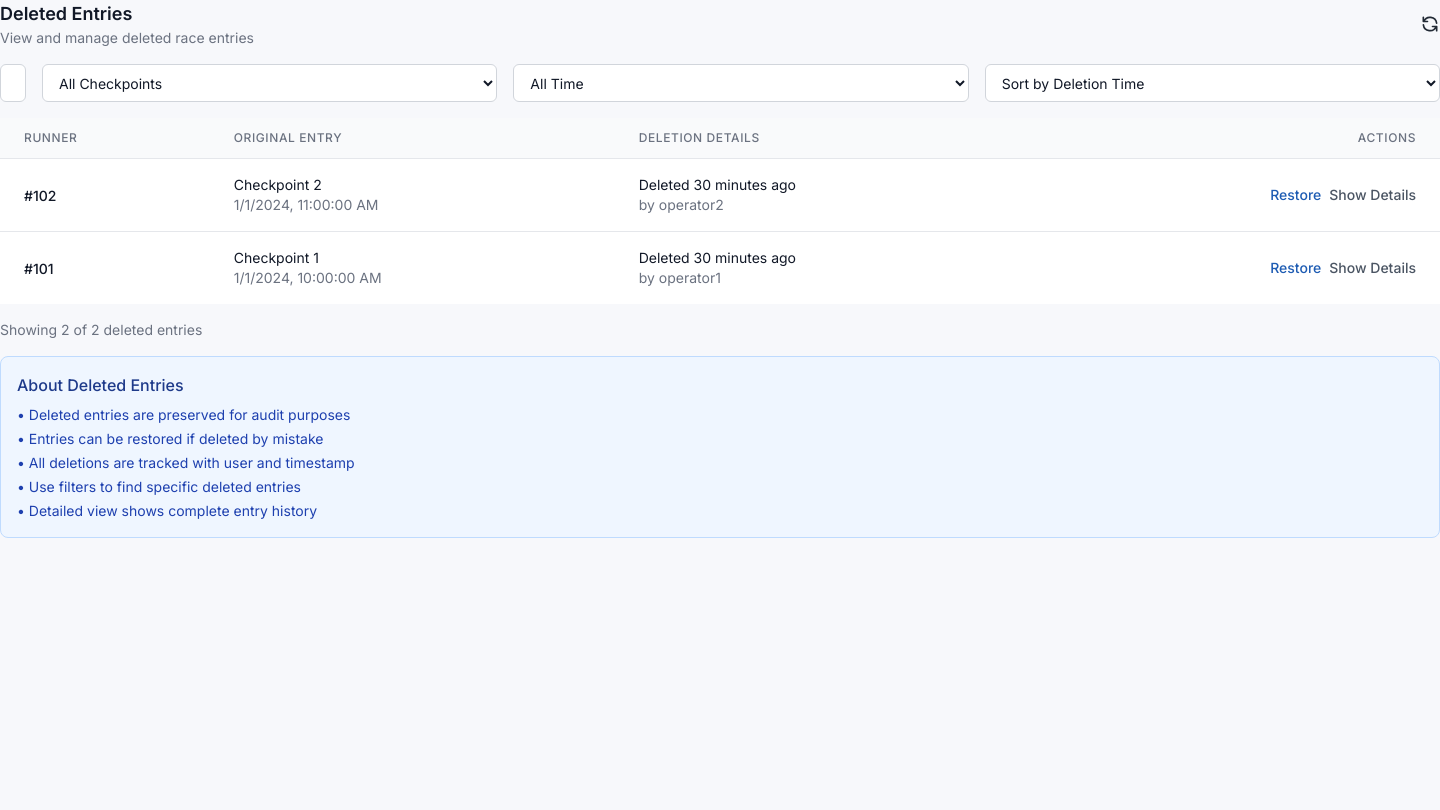
Test: DeletedEntriesView › shows deletion reasons inside expanded details rows
The width and height of the screenshot is (1440, 810).
Note: Expand entry 1 using the Show Details button in its row
Click the button "Show Details" in the row of "101": (1373, 268) [1329, 258, 1416, 278]
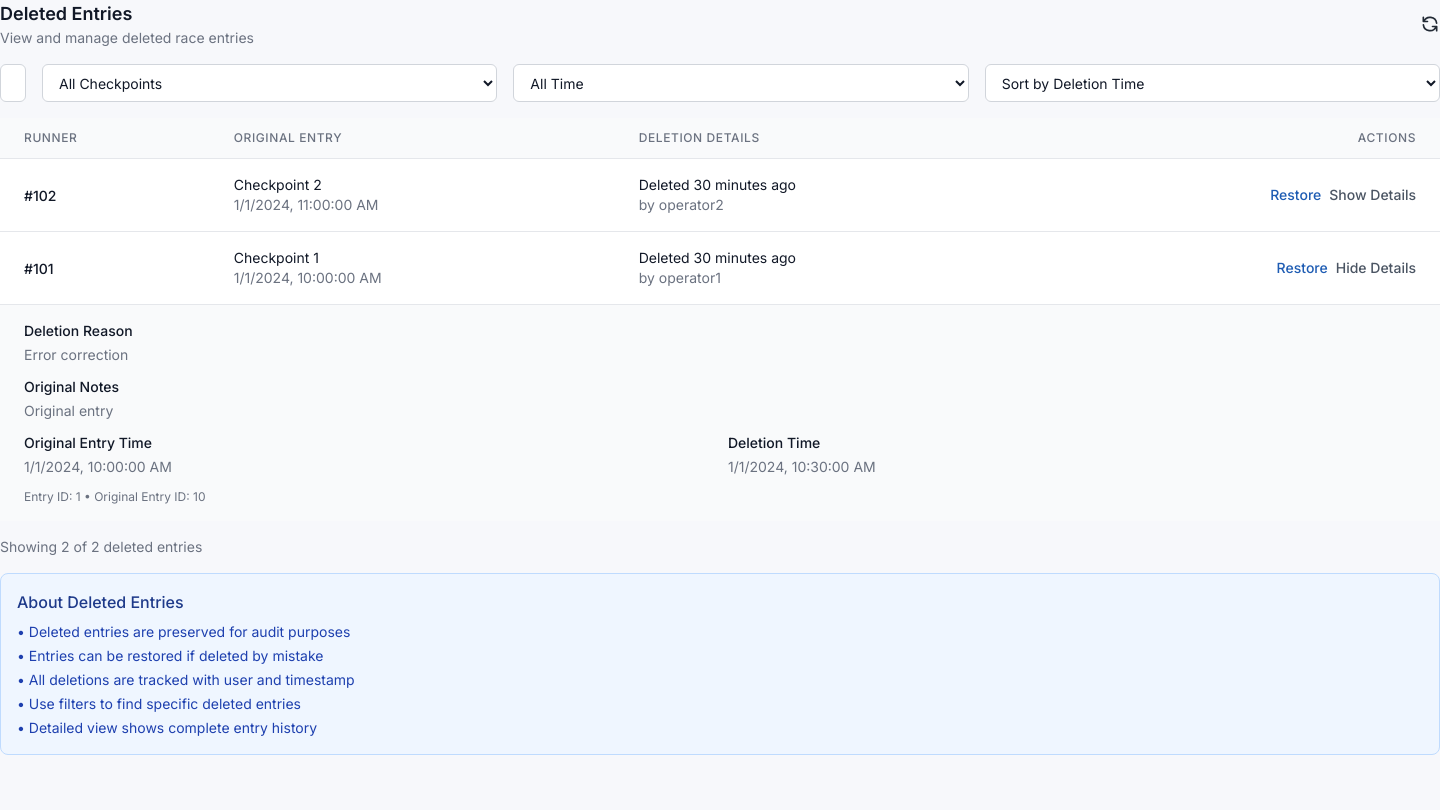
Check: the text "Error correction" is shown, box [24, 346, 128, 363]
Note: Expand entry 2 using the Show Details button in its row
Click the button "Show Details": (1373, 195) [1329, 185, 1416, 205]
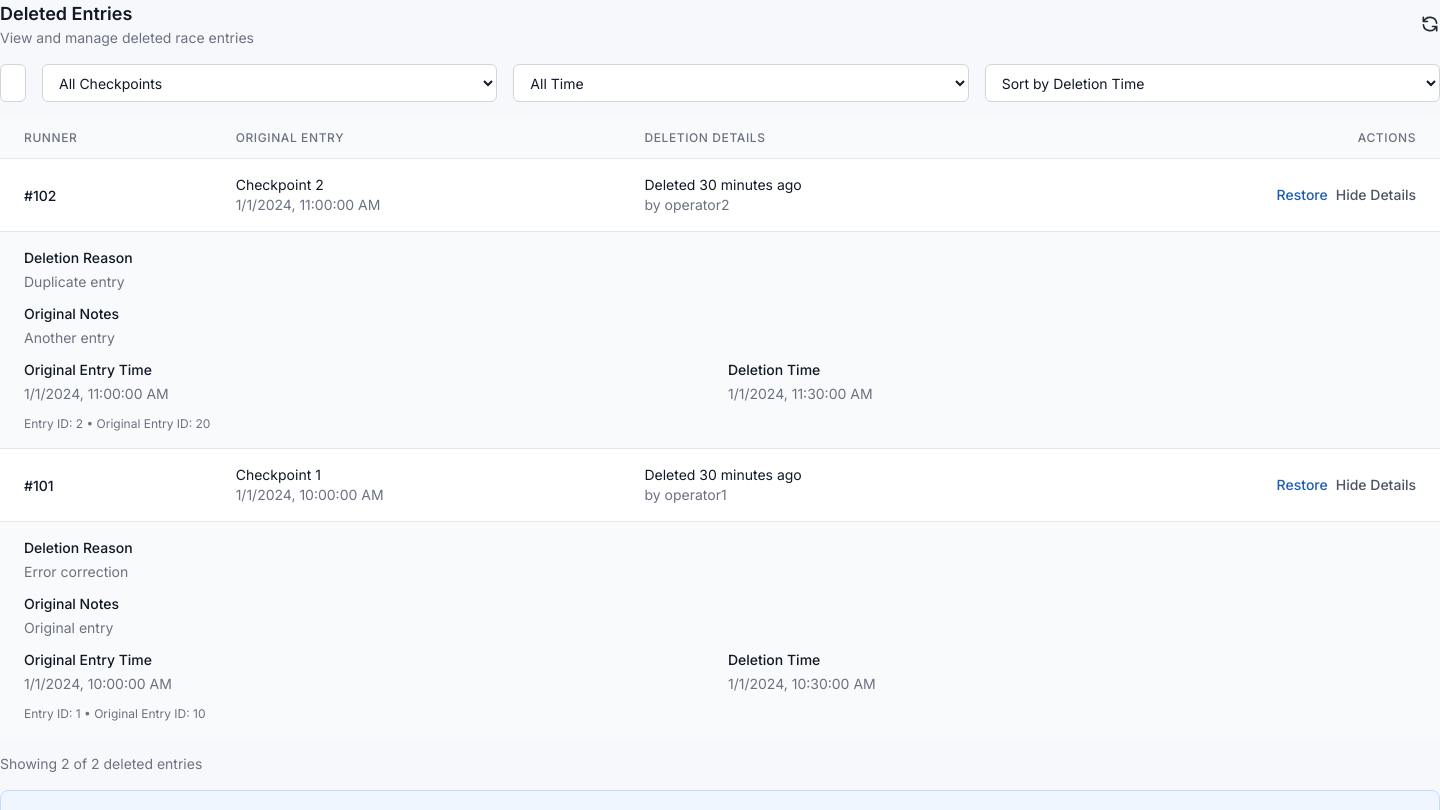
Check: the text "Duplicate entry" is shown, box [24, 273, 125, 290]
